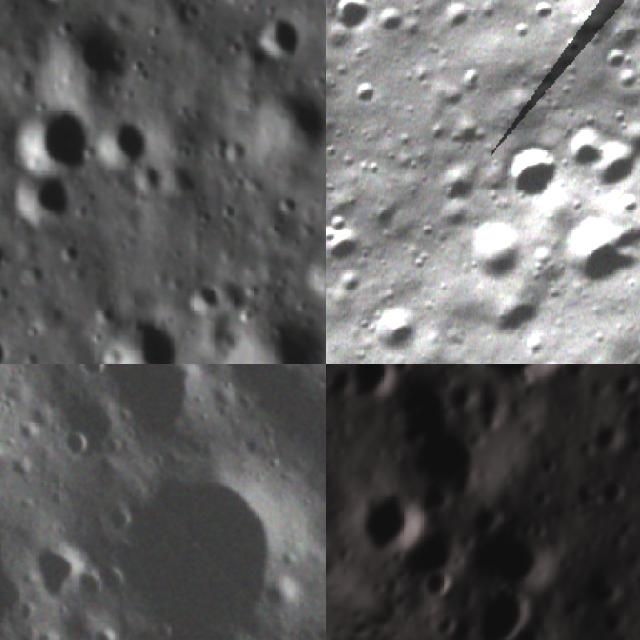crater: (60, 415, 326, 640), (72, 364, 232, 460), (356, 364, 485, 475), (396, 412, 510, 526), (466, 505, 580, 614), (545, 187, 640, 298), (337, 467, 437, 572), (8, 520, 103, 616), (448, 204, 540, 296), (449, 364, 594, 421), (442, 563, 549, 640), (467, 270, 556, 360), (388, 510, 473, 597), (8, 99, 98, 177), (487, 130, 570, 212), (253, 83, 326, 172), (51, 17, 132, 94), (558, 552, 633, 626), (94, 310, 183, 364), (357, 295, 426, 364), (336, 364, 421, 419), (455, 378, 522, 444), (3, 169, 77, 227), (553, 114, 618, 179), (239, 317, 326, 364), (581, 131, 640, 199), (97, 114, 152, 176), (247, 14, 307, 65), (581, 413, 636, 468), (427, 156, 481, 210), (326, 211, 369, 273), (412, 560, 460, 611), (52, 416, 98, 464), (424, 0, 477, 41), (597, 364, 640, 411), (336, 69, 381, 113), (593, 472, 638, 516), (326, 0, 379, 37), (183, 276, 225, 322), (363, 0, 409, 41), (622, 98, 640, 181), (300, 244, 326, 301), (526, 480, 562, 519), (594, 40, 631, 76), (622, 541, 640, 607), (608, 60, 640, 97), (526, 0, 560, 23), (0, 235, 13, 286)
